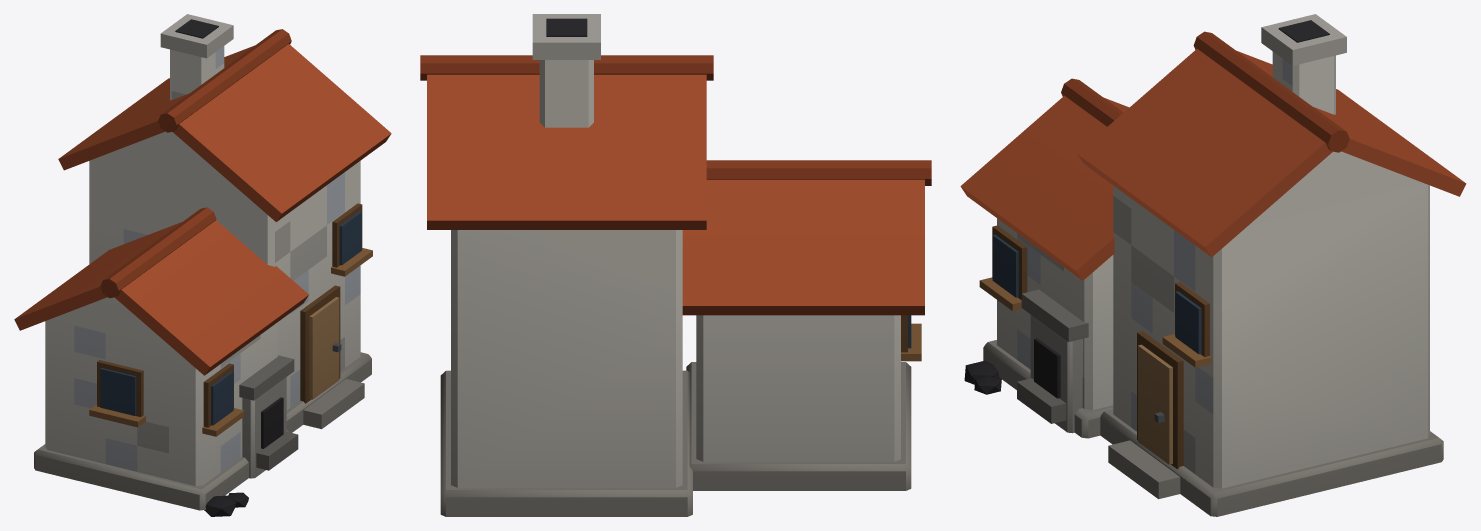
File: building_17.glb
The picture shows the model from 3 angles, left to right: view 1: azimuth 30°, elevation 25°; view 2: azimuth 150°, elevation 25°; view 3: azimuth 270°, elevation 25°; orthographic projection. The views are drawn at different scales.
Visible parts, largest first — view 1: building_17; view 2: building_17; view 3: building_17.
Boxes of the visible parts, bbox=[...] form: building_17: bbox=[14, 14, 391, 516]; building_17: bbox=[420, 14, 931, 516]; building_17: bbox=[960, 14, 1466, 516].
Size of the model in its own units: 0.8284 by 0.741 by 0.8087.
